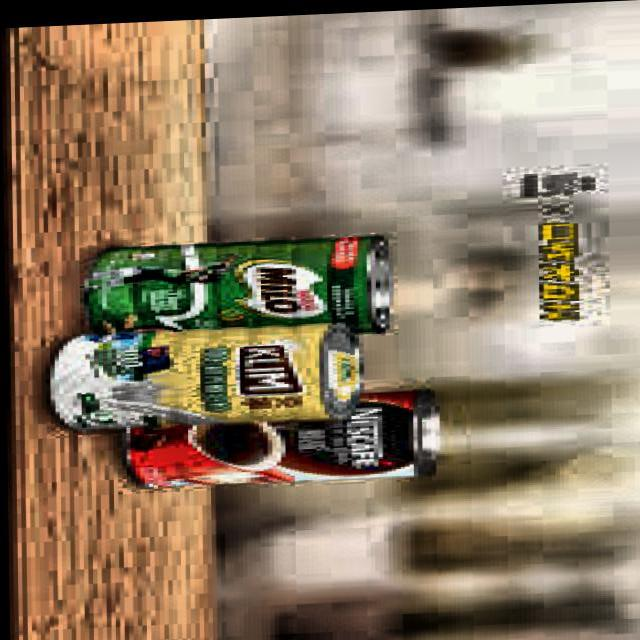Aluminum Can: (67, 227, 401, 347), (42, 316, 370, 431), (110, 384, 445, 492)
